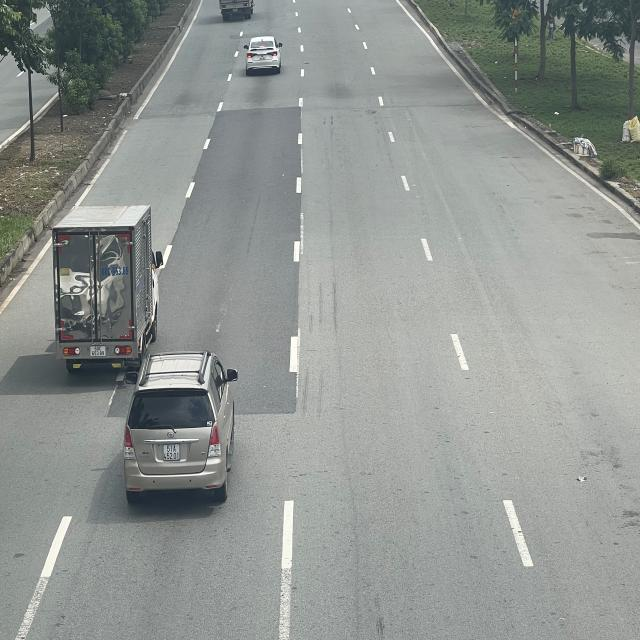car: (122, 349, 237, 502), (243, 34, 283, 72)
truck: (52, 204, 160, 370)
